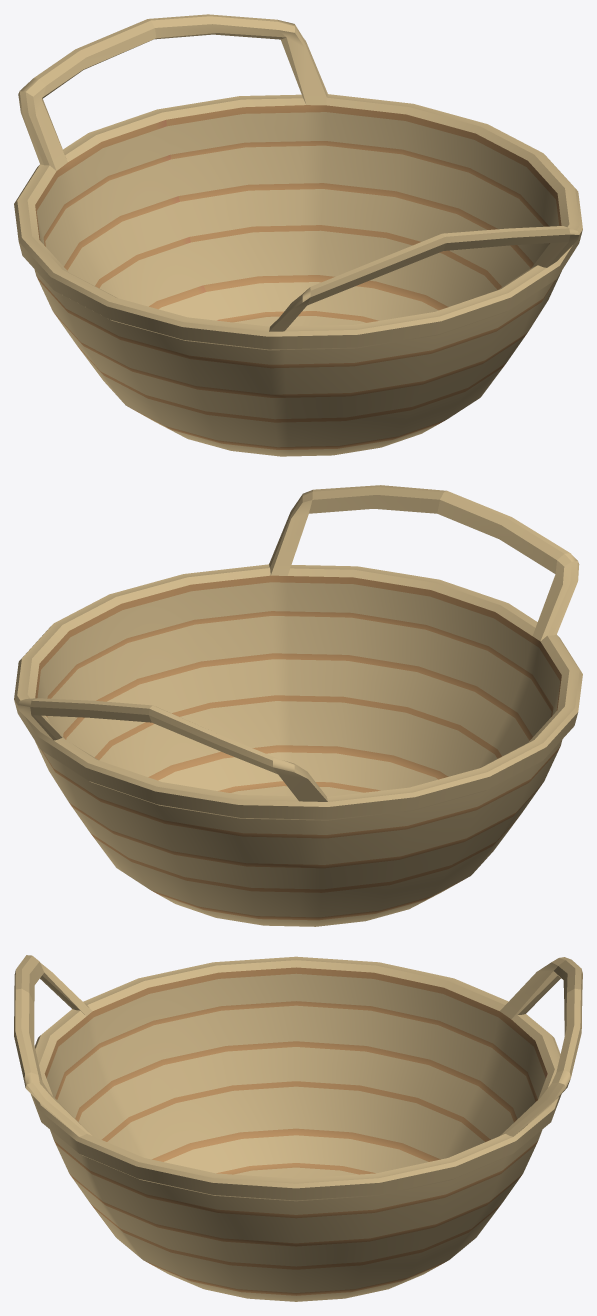
Rendered from atoll_basket.fbx.
The picture shows the model from 3 angles, top to bottom: view 1: azimuth 30°, elevation 25°; view 2: azimuth 150°, elevation 25°; view 3: azimuth 270°, elevation 25°; orthographic projection. The views are drawn at different scales.
Visible parts, largest first — view 1: basket; view 2: basket; view 3: basket.
Part boxes in pixels (x1,y1,x2,y2): basket: [14, 14, 582, 456]; basket: [14, 485, 582, 926]; basket: [14, 955, 582, 1301].
Size of the model in its own units: 0.2591 by 0.1332 by 0.2713.
